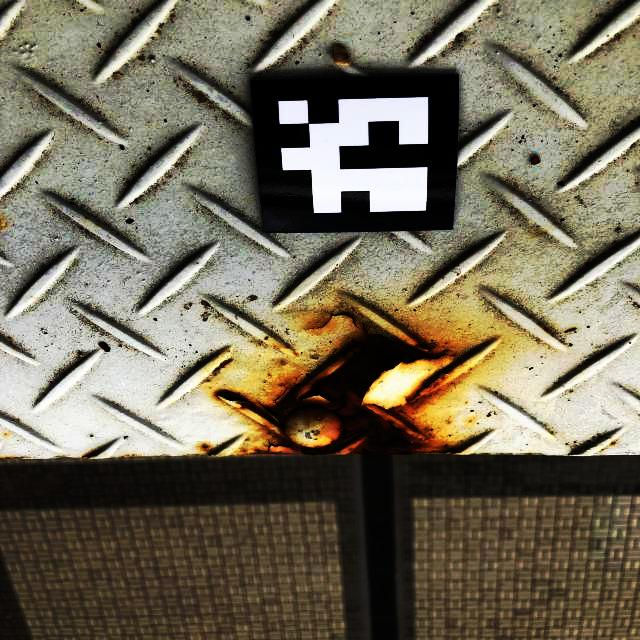Corrosion: (215, 313, 457, 456), (218, 360, 232, 370), (202, 445, 209, 450), (273, 346, 280, 350), (610, 441, 616, 445), (286, 346, 290, 349)
